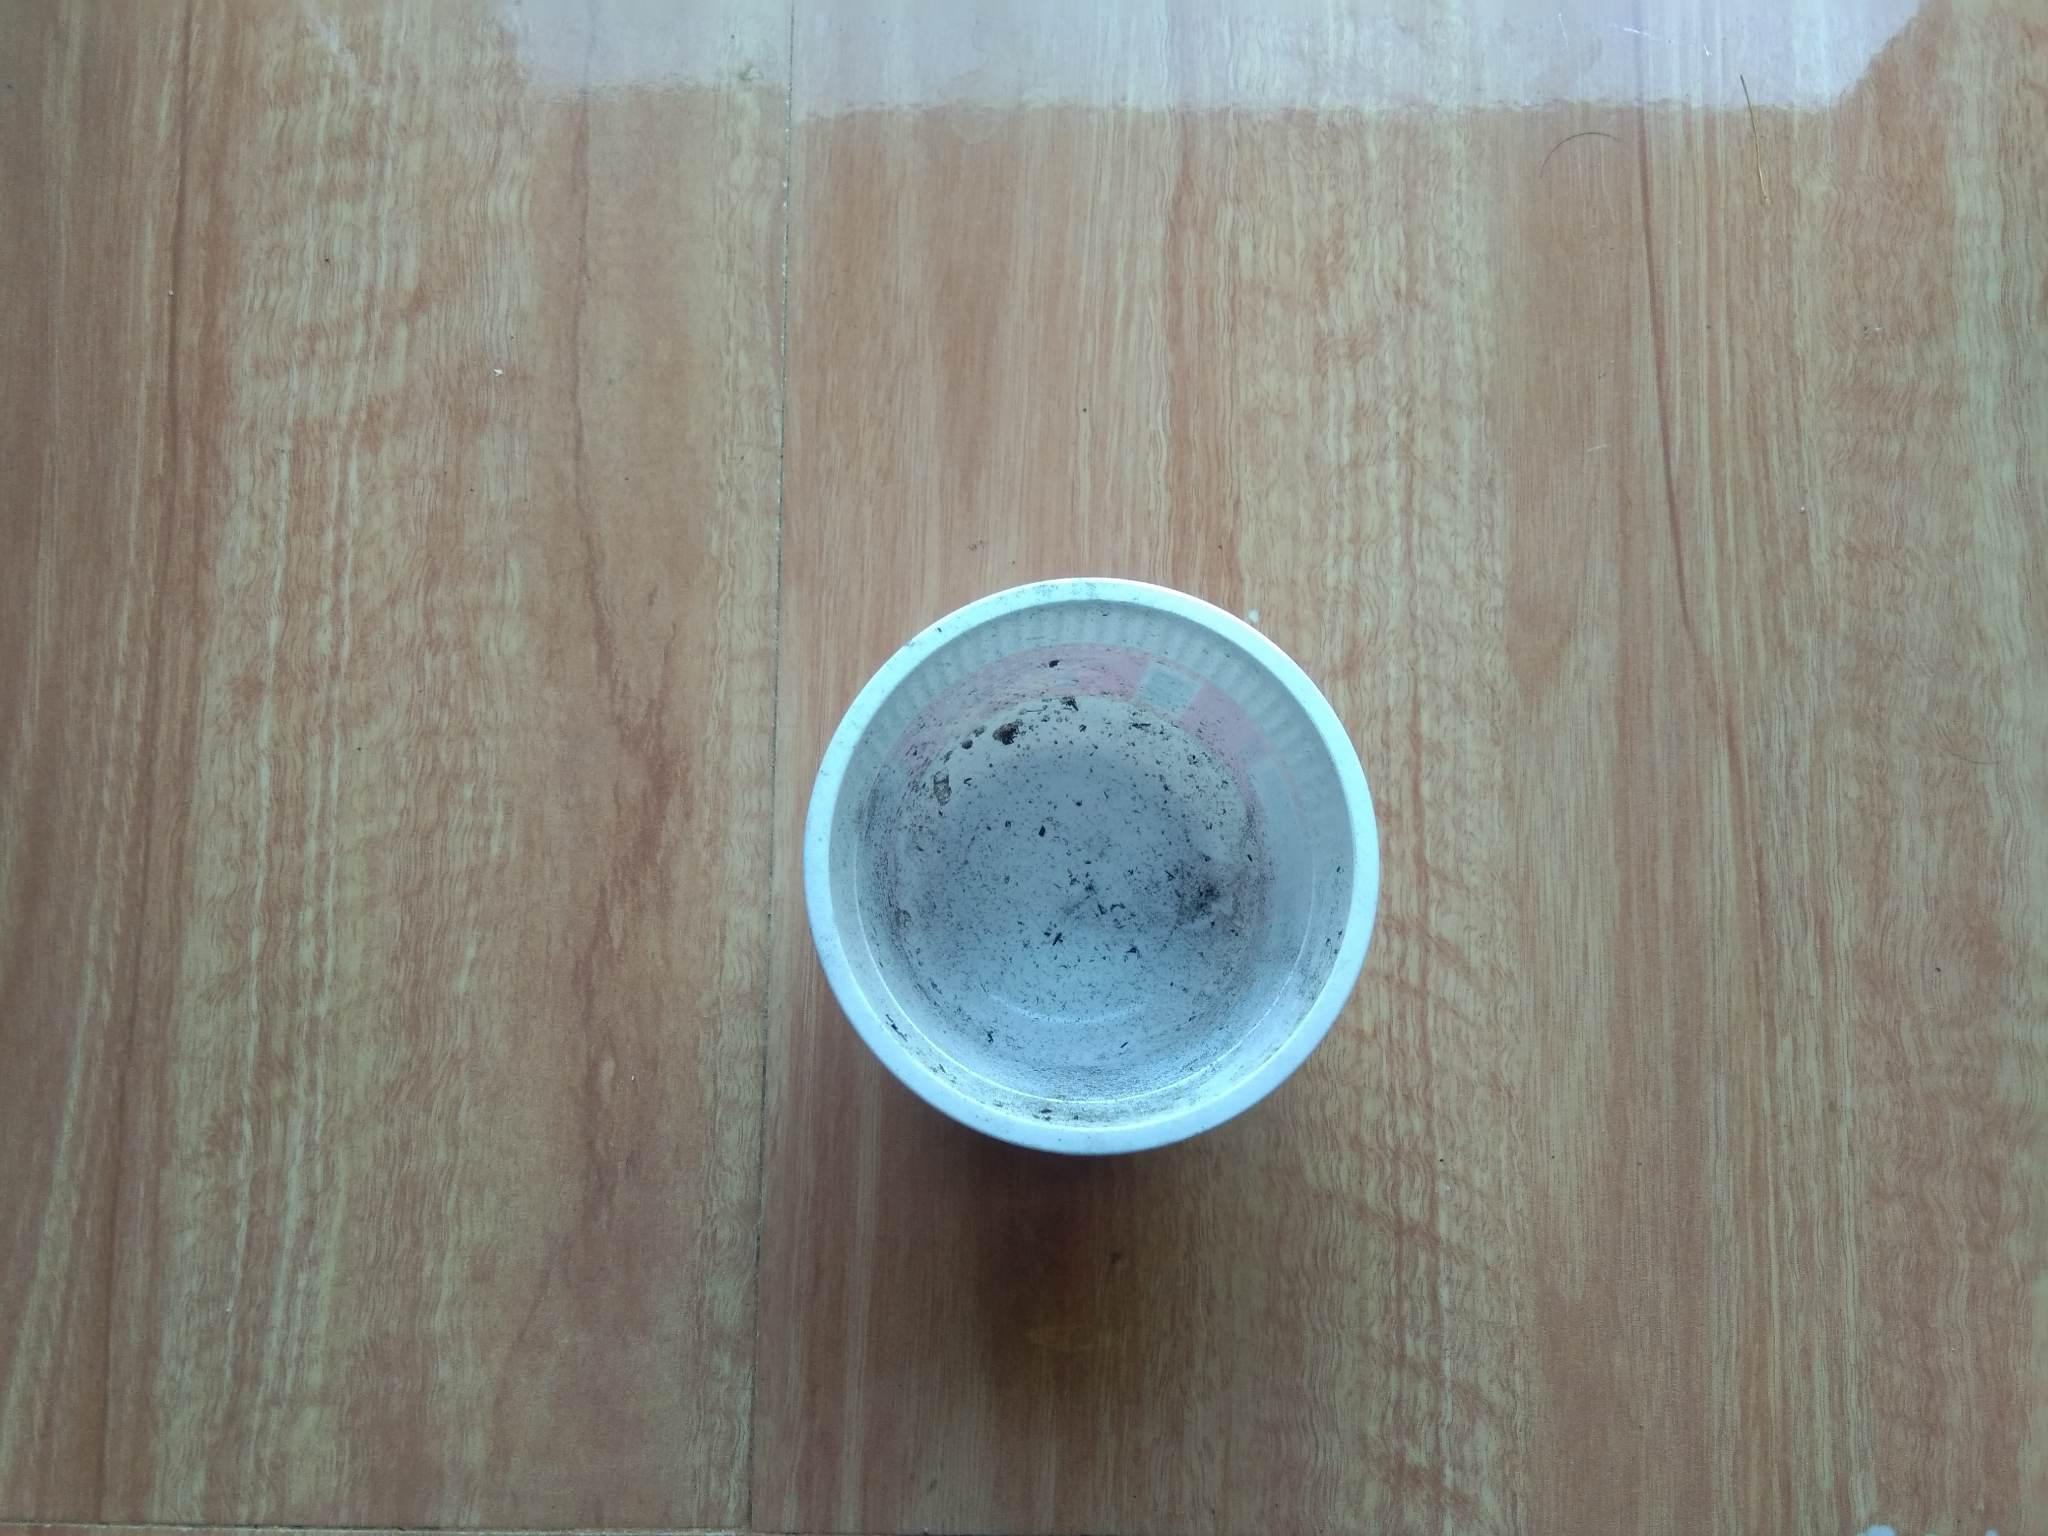plastic: (647, 520, 1432, 1220)
